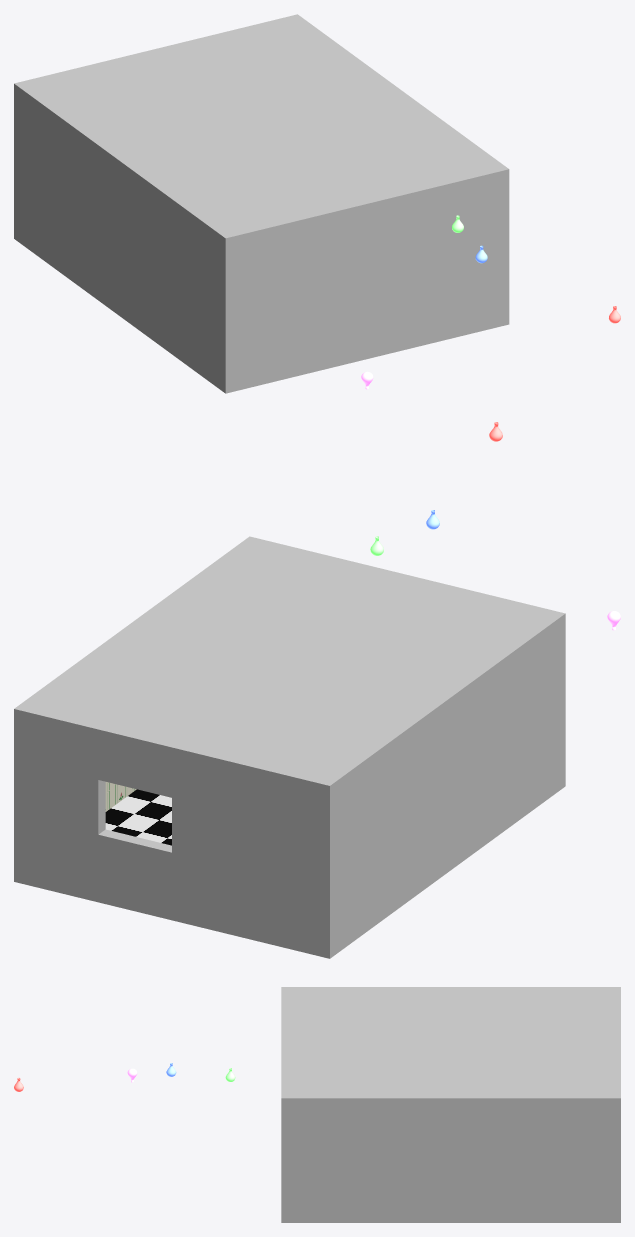
Rendered from room2.glb.
3 renders of one model, top to bottom at view 1: azimuth 30°, elevation 25°; view 2: azimuth 150°, elevation 25°; view 3: azimuth 270°, elevation 25°, orthographic. The views are drawn at different scales.
Parts seen in each view (by area): view 1: room; view 2: room, floor; view 3: room.
Part boxes in pixels (bbox=[...]): room: bbox=[14, 14, 509, 393]; room: bbox=[14, 536, 565, 958]; floor: bbox=[105, 789, 171, 845]; room: bbox=[281, 987, 620, 1222].
Bounding box in the file's own units: 6.03 × 3.16 × 13.93.
47 materials, 2 textured.
